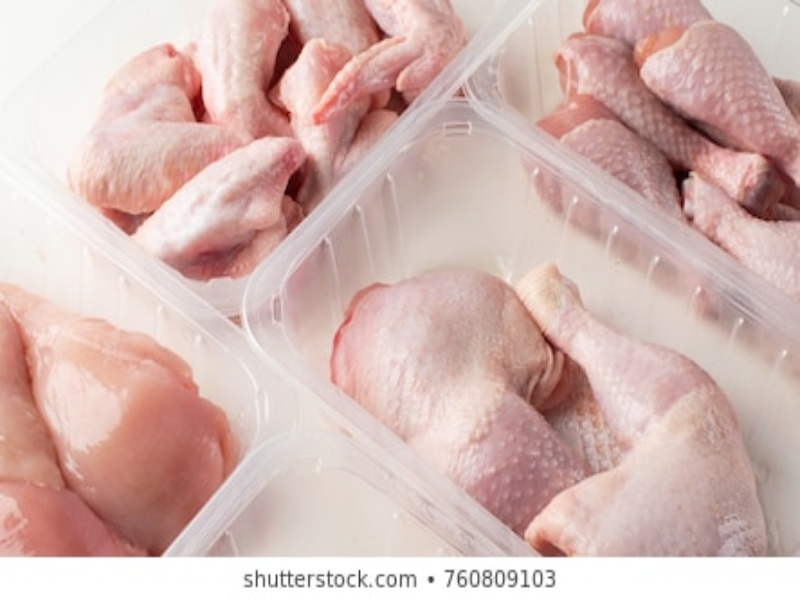plastic-container: (240, 97, 800, 554), (6, 1, 513, 321), (1, 157, 293, 555), (454, 2, 800, 294), (141, 430, 501, 557)
